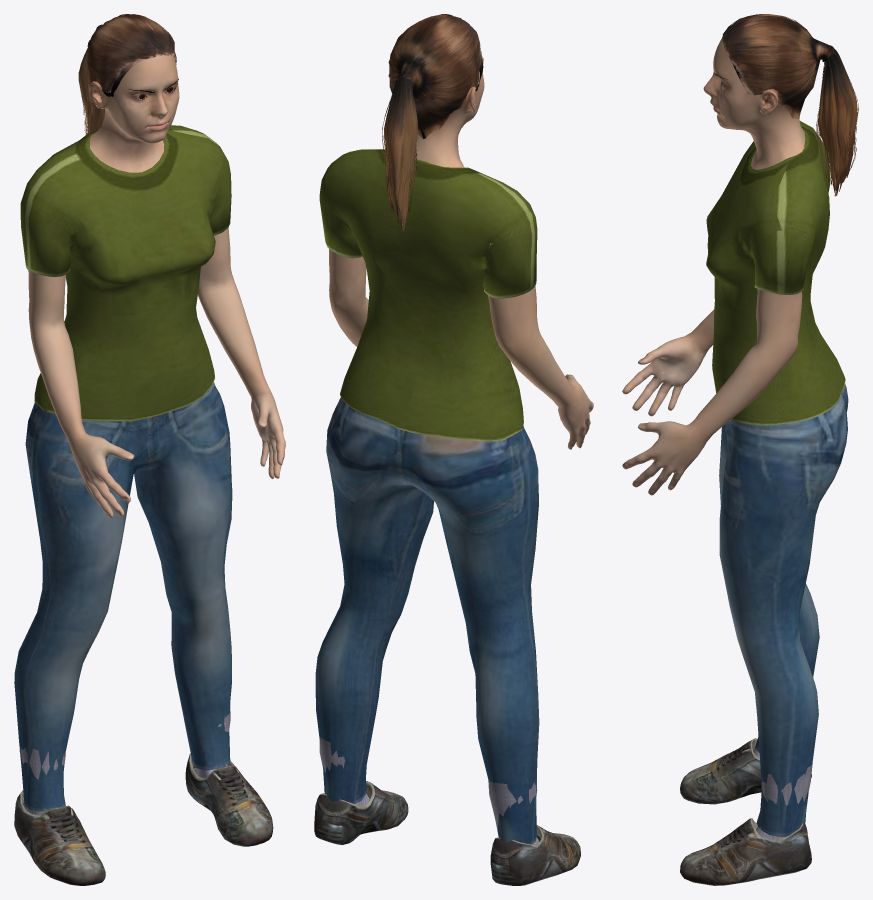
The model's file is woman.glb.
3 views of the same model, side by side, from view 1: azimuth 30°, elevation 25°; view 2: azimuth 150°, elevation 25°; view 3: azimuth 270°, elevation 25° (orthographic). The views are drawn at different scales.
Visible parts, largest first — view 1: Human.female_countrysuit01.001, Human.001, Human.shoes02.001, Human.ponytail01.001; view 2: Human.female_countrysuit01.001, Human.ponytail01.001, Human.001, Human.shoes02.001; view 3: Human.female_countrysuit01.001, Human.001, Human.ponytail01.001, Human.shoes02.001.
Part boxes in pixels (left/top/right/bottom): Human.female_countrysuit01.001: left=14, top=125, right=232, bottom=811; Human.001: left=28, top=55, right=285, bottom=518; Human.shoes02.001: left=14, top=705, right=273, bottom=885; Human.ponytail01.001: left=78, top=14, right=176, bottom=135; Human.female_countrysuit01.001: left=315, top=149, right=539, bottom=844; Human.ponytail01.001: left=382, top=14, right=483, bottom=231; Human.001: left=329, top=55, right=593, bottom=449; Human.shoes02.001: left=314, top=737, right=580, bottom=885; Human.female_countrysuit01.001: left=706, top=121, right=848, bottom=837; Human.001: left=622, top=38, right=805, bottom=495; Human.ponytail01.001: left=722, top=14, right=858, bottom=196; Human.shoes02.001: left=680, top=738, right=812, bottom=885.
Bounding box in the file's own units: 0.4766 × 1.65 × 0.4307.
7 materials, 7 textured.
